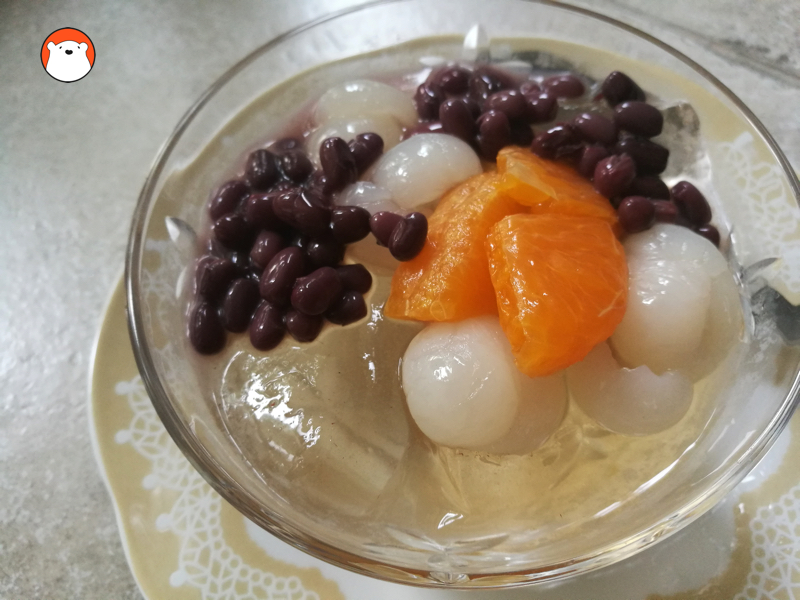O-eo: (180, 13, 800, 568)
